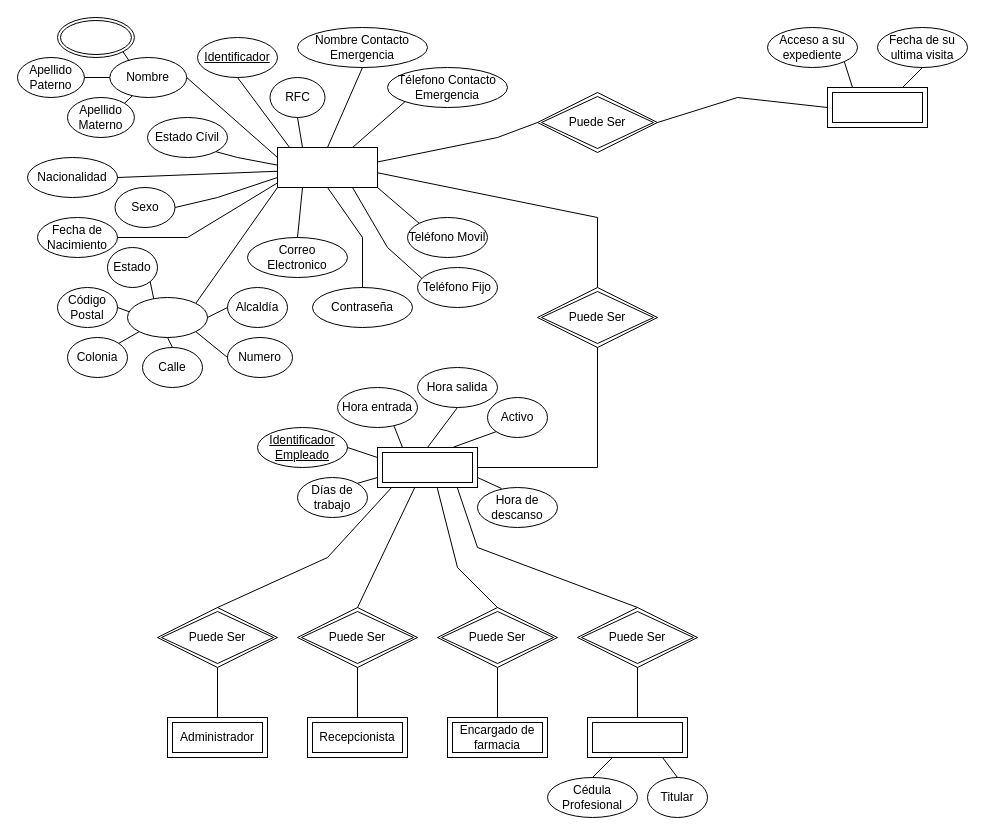
Some shapes in this 985 by 835 pixel diagram are drawn without their labels. Here are the shapes that lost their labels. From the top down, the centre of each, then its label:
At pixel 95 37: "Nombres".
At pixel 877 107: "Paciente".
At pixel 327 167: "Usuario".
At pixel 167 317: "Domicilio".
At pixel 427 467: "Empleado".
At pixel 637 737: "Médico".
